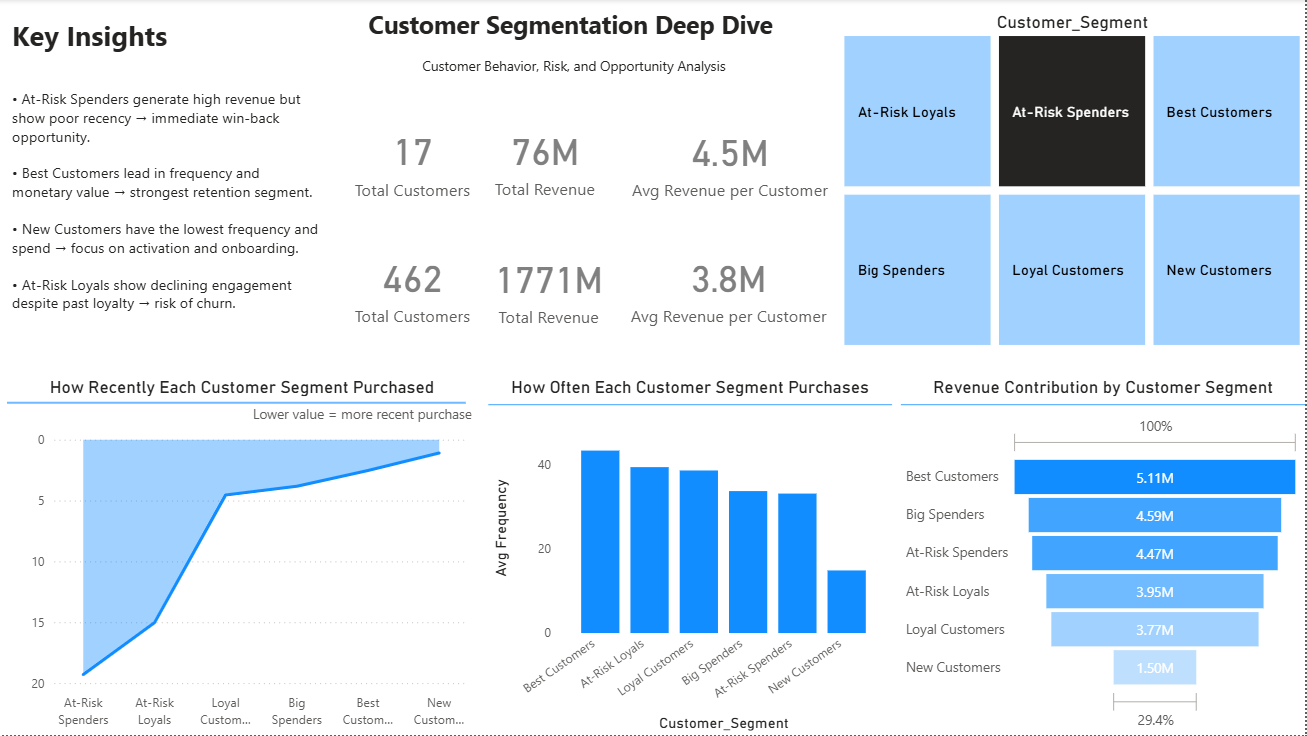

What the dashboard file says about the page in this screenshot:
{"tool":"powerbi","page":{"name":"Page 2","canvas":[1280,720],"ordinal":1},"visuals":[{"type":"areaChart","title":"How Recently Each Customer Segment Purchased","fields":{"Category":["Final RFM dataset.Customer_Segment"],"Y":["Final RFM dataset.Avg Recency"]},"box":[9.8,369.3,459.8,351],"z":0},{"type":"advancedSlicerVisual","fields":{"Values":["Final RFM dataset.Customer_Segment"]},"box":[824.2,12.2,456.1,332.6],"z":1000},{"type":"funnel","title":"Revenue Contribution by Customer Segment","fields":{"Category":["Final RFM dataset.Customer_Segment"],"Y":["Final RFM dataset.Avg Monetary"]},"box":[884.1,369.3,396.2,351],"z":2000},{"type":"columnChart","title":"How Often Each Customer Segment Purchases","fields":{"Category":["Final RFM dataset.Customer_Segment"],"Y":["Final RFM dataset.Avg Frequency"]},"box":[480.6,369.3,395,351],"z":3000},{"type":"card","fields":{"Values":["Final RFM dataset.Total Revenue"]},"box":[473.2,236,133.3,92.9],"z":4000},{"type":"card","fields":{"Values":["Final RFM dataset.Avg Revenue per Customer"]},"box":[609,234.8,214,92.9],"z":5000},{"type":"card","fields":{"Values":["Final RFM dataset.Total Customers"]},"box":[339.9,236,133.3,91.7],"z":6000},{"type":"textbox","box":[358.3,3.7,409.6,47.7],"z":7000},{"type":"textbox","box":[359.5,51.4,409.6,30.6],"z":8000},{"type":"card","fields":{"Values":["Final RFM dataset.Total Customers"]},"box":[339.9,112.5,133.3,90.5],"z":9000},{"type":"card","fields":{"Values":["Final RFM dataset.Avg Revenue per Customer"]},"box":[610.2,112.5,214,91.7],"z":10000},{"type":"card","fields":{"Values":["Final RFM dataset.Total Revenue"]},"box":[473.2,111.3,126,91.7],"z":11000},{"type":"shape","box":[9.8,379.1,448.8,31.8],"z":12000},{"type":"textbox","box":[9.8,12.2,313,332.6],"z":13000}]}

Visuals, with their boxes in screenshot pixels (x1, y1, x2, y2), scaled from the page's 1280x720 canvas onto the 1307x736 screenshot:
"How Recently Each Customer Segment Purchased" areaChart: bbox(10, 378, 480, 735)
advancedSlicerVisual - Final RFM dataset.Customer_Segment: bbox(842, 12, 1306, 352)
"Revenue Contribution by Customer Segment" funnel: bbox(903, 378, 1306, 735)
"How Often Each Customer Segment Purchases" columnChart: bbox(491, 378, 894, 735)
card - Final RFM dataset.Total Revenue: bbox(483, 241, 619, 336)
card - Final RFM dataset.Avg Revenue per Customer: bbox(622, 240, 840, 335)
card - Final RFM dataset.Total Customers: bbox(347, 241, 483, 335)
textbox: bbox(366, 4, 784, 53)
textbox: bbox(367, 53, 785, 84)
card - Final RFM dataset.Total Customers: bbox(347, 115, 483, 208)
card - Final RFM dataset.Avg Revenue per Customer: bbox(623, 115, 842, 209)
card - Final RFM dataset.Total Revenue: bbox(483, 114, 612, 208)
shape: bbox(10, 388, 468, 420)
textbox: bbox(10, 12, 330, 352)
